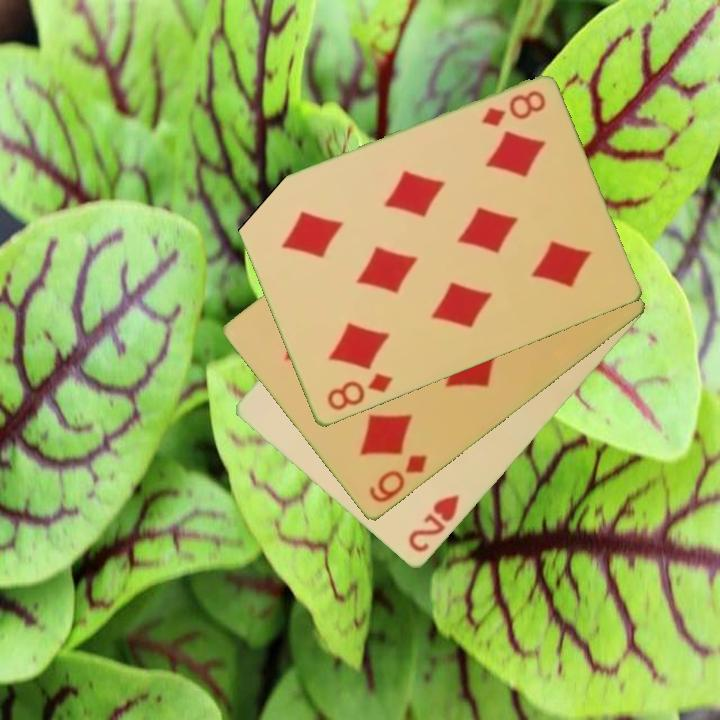2h: (404, 491, 463, 556)
6d: (365, 451, 431, 507)
8d: (323, 370, 395, 414), (478, 87, 549, 131)
